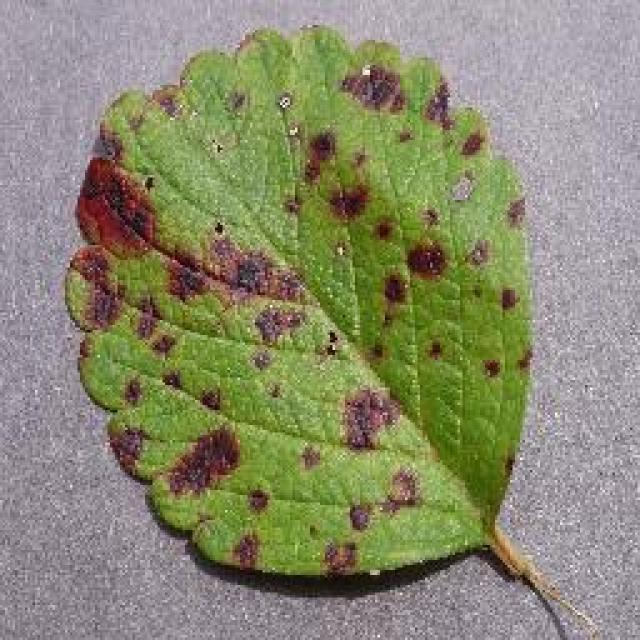Strawberry___Leaf_scorch: (45, 2, 605, 640)
